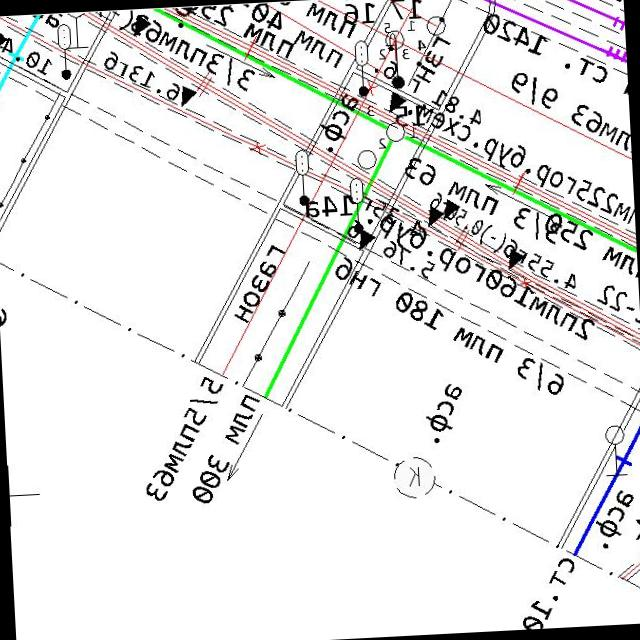asphalt: (424, 382, 466, 444)
bushes: (392, 454, 438, 502)
mark: (176, 85, 199, 108), (426, 204, 446, 230), (506, 246, 526, 272), (441, 199, 462, 222), (388, 89, 408, 113), (357, 229, 376, 251), (0, 29, 9, 53)
well: (384, 28, 406, 52), (356, 148, 378, 172), (426, 15, 448, 38), (385, 121, 407, 144)
